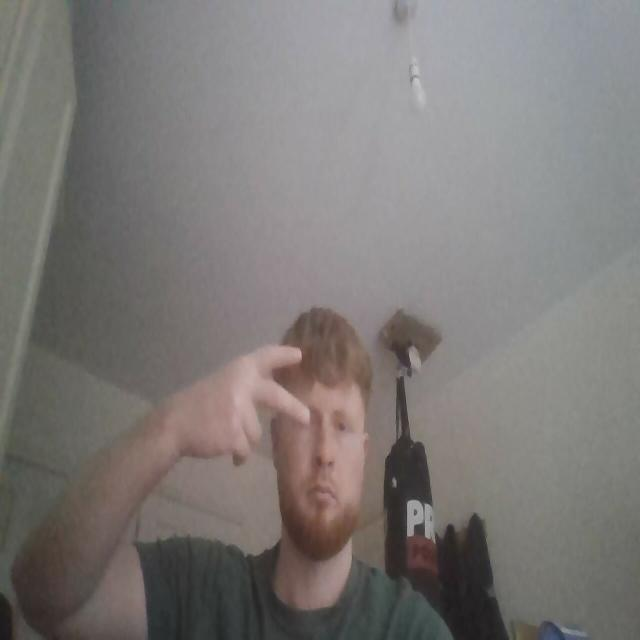scissors: (184, 341, 312, 471)
